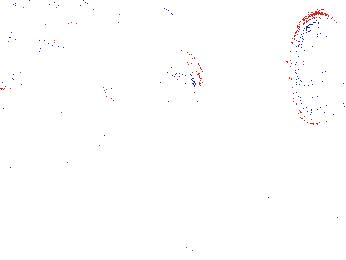moon jellyfish: (101, 41, 204, 109), (288, 13, 346, 125), (23, 1, 124, 49), (1, 4, 41, 91)
